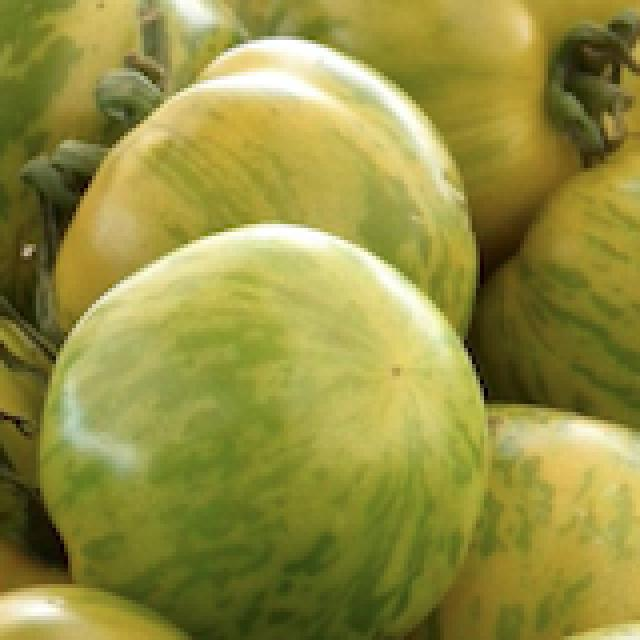yesil: (43, 176, 486, 636)
